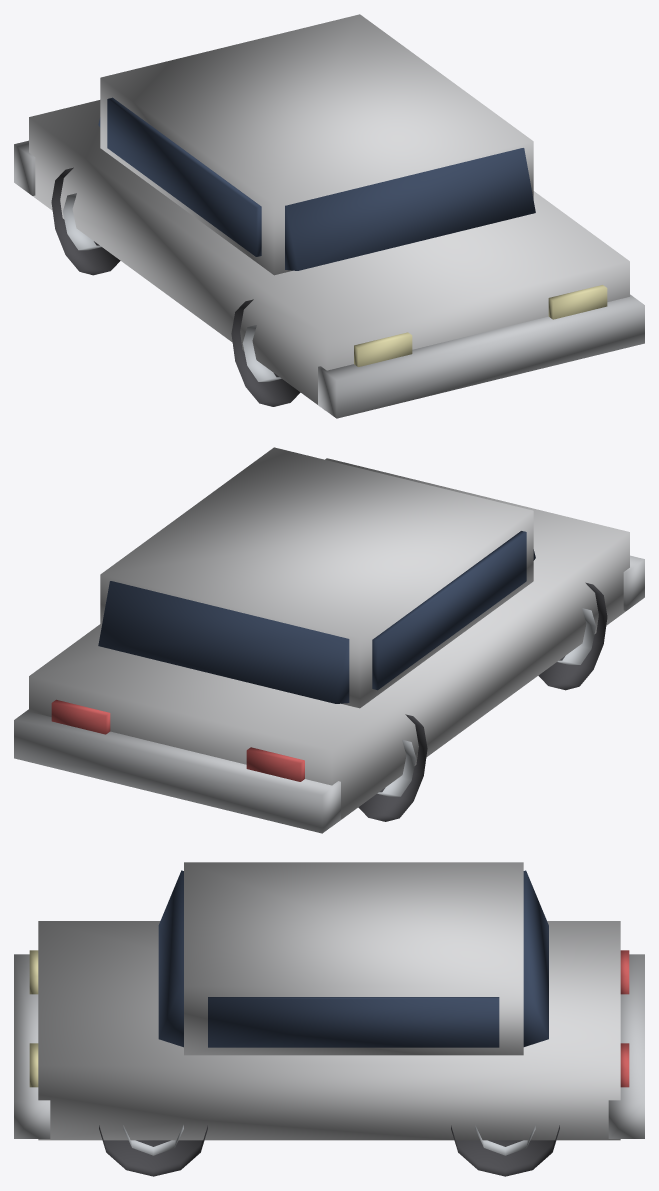
The model's file is lot-car.glb.
3 views of the same model, one above another, from view 1: azimuth 30°, elevation 25°; view 2: azimuth 150°, elevation 25°; view 3: azimuth 270°, elevation 25° (orthographic). The views are drawn at different scales.
Parts seen in each view (by area): view 1: world; view 2: world; view 3: world.
Part boxes in pixels (left/top/right/bottom): world: left=14, top=14, right=644, bottom=418; world: left=14, top=447, right=644, bottom=833; world: left=14, top=862, right=644, bottom=1176.
Size of the model in its own units: 3 by 1.6 by 5.2.
